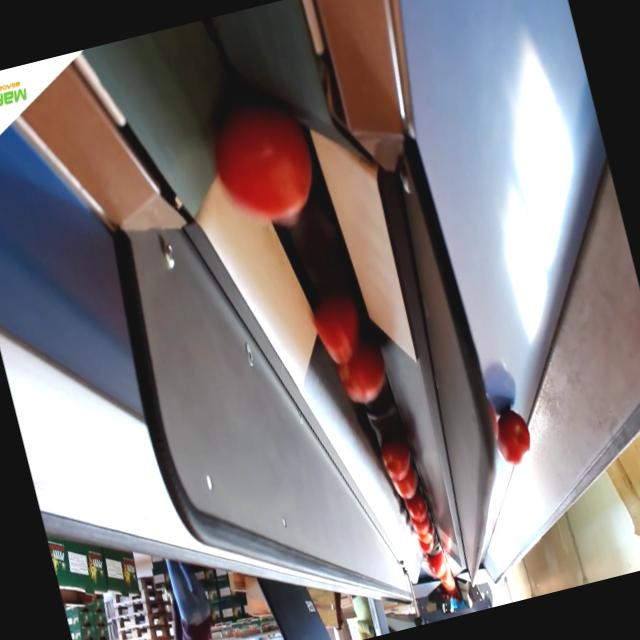Tomato: (201, 90, 319, 236), (304, 288, 364, 370), (332, 330, 388, 410), (490, 404, 534, 468), (373, 429, 413, 482), (392, 469, 422, 499), (423, 547, 450, 578), (403, 488, 430, 518), (408, 513, 434, 538)
